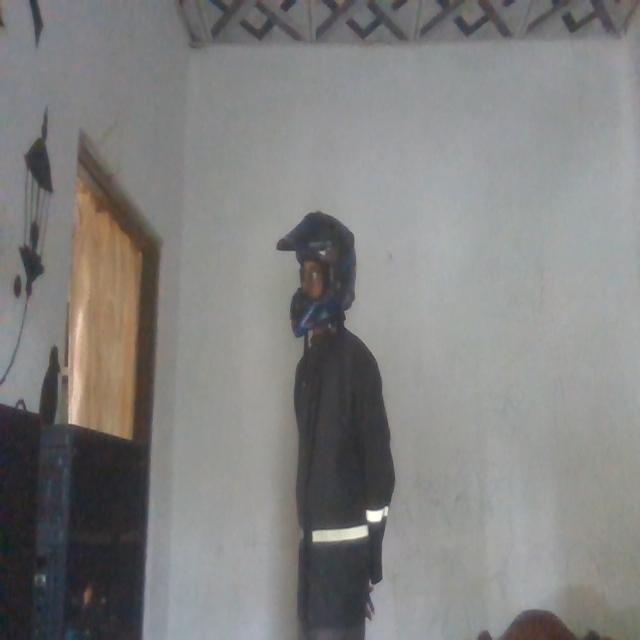Helmet_Wearer: (276, 205, 360, 335)
Jacket_Wearer: (286, 331, 396, 613)
Person: (273, 200, 395, 639)
